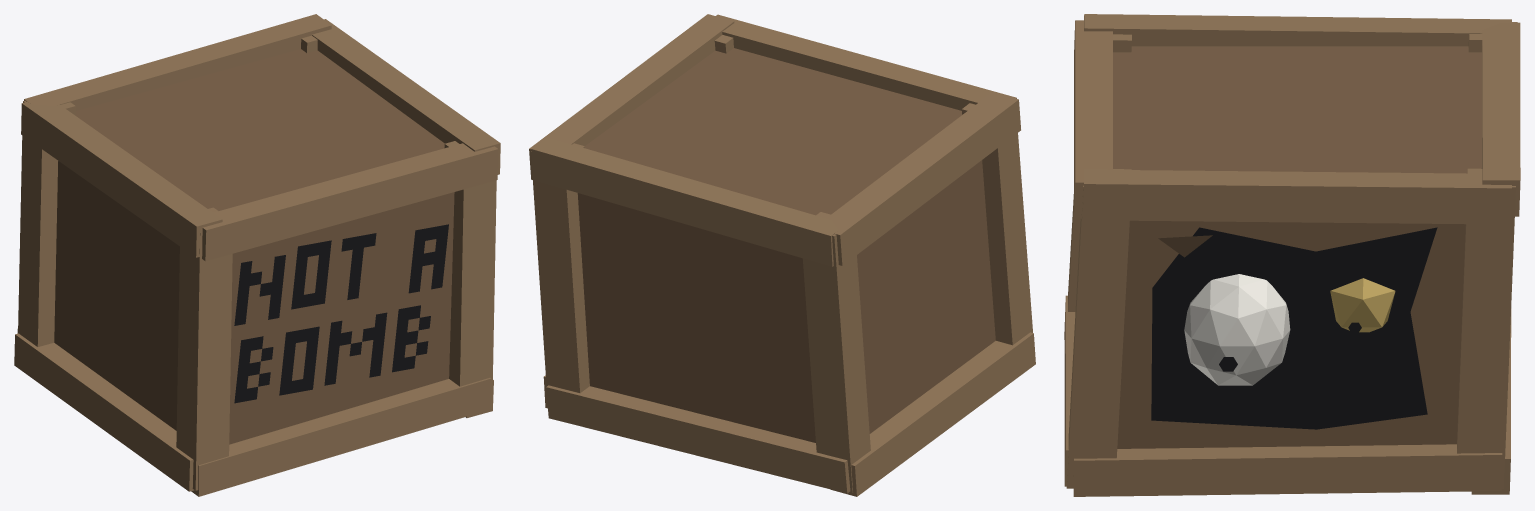
File: crate.glb
The picture shows the model from 3 angles, left to right: view 1: azimuth 30°, elevation 25°; view 2: azimuth 150°, elevation 25°; view 3: azimuth 270°, elevation 25°; orthographic projection. The views are drawn at different scales.
Parts seen in each view (by area): view 1: Prop; view 2: Prop; view 3: Prop.
Part boxes in pixels (<box>): Prop: <box>14,14,500,496</box>; Prop: <box>529,14,1035,496</box>; Prop: <box>1064,14,1520,496</box>.
Bounding box in the file's own units: 0.62 × 0.5 × 0.62.
